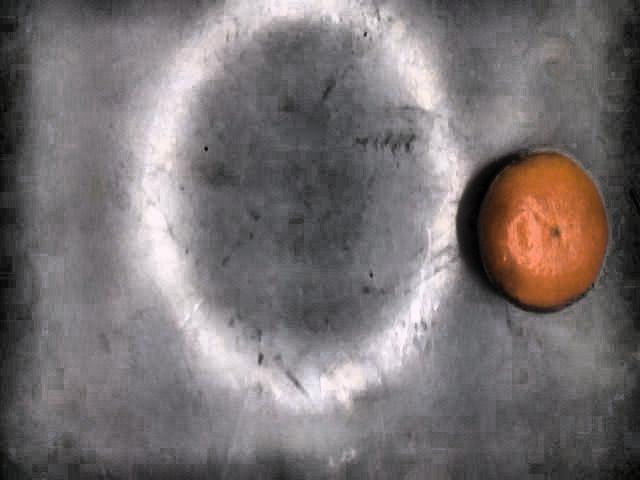Almennt: (476, 152, 611, 317)
